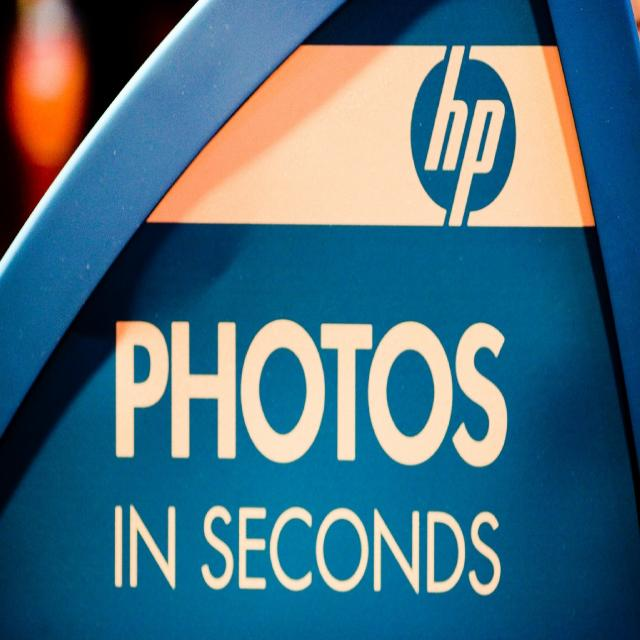HP: (405, 41, 522, 237)
